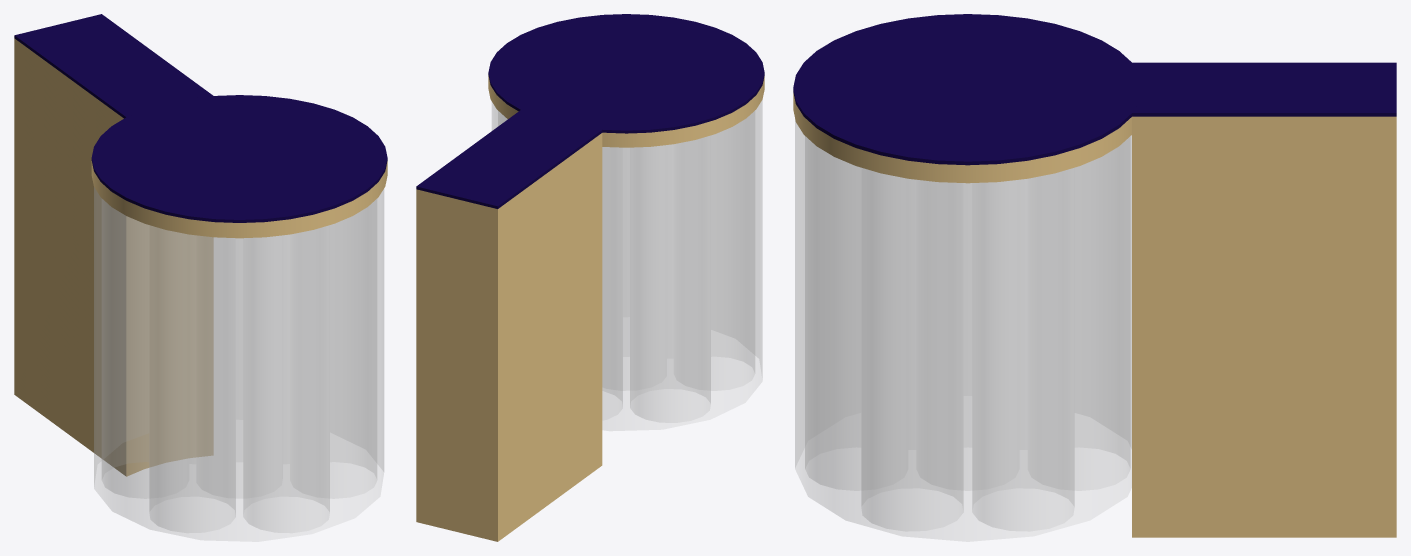
File: stacker.glb
3 renders of one model, left to right at view 1: azimuth 30°, elevation 25°; view 2: azimuth 150°, elevation 25°; view 3: azimuth 270°, elevation 25°, orthographic. The views are drawn at different scales.
Parts seen in each view (by area): view 1: support, arm-protection, base, arm-protection-lid; view 2: arm-protection, support, base, arm-protection-lid; view 3: support, arm-protection, base, arm-protection-lid.
Boxes of the visible parts, <box> form: support: <box>94,187,383,541</box>; arm-protection: <box>14,14,213,476</box>; base: <box>91,95,387,238</box>; arm-protection-lid: <box>27,20,206,114</box>; arm-protection: <box>416,110,602,541</box>; support: <box>492,100,762,430</box>; base: <box>488,14,764,147</box>; arm-protection-lid: <box>428,112,595,200</box>; support: <box>795,120,1131,541</box>; arm-protection: <box>1132,62,1396,537</box>; base: <box>793,14,1142,183</box>; arm-protection-lid: <box>1134,66,1380,109</box>.
Bounding box in the file's own units: 0.22 × 0.295 × 0.38.
